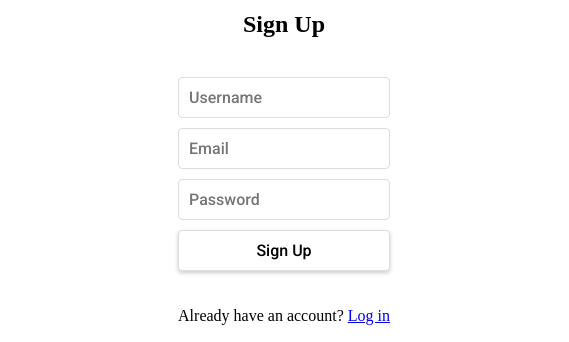
Test case: Register › submits registration and shows success message
This screenshot has width=569, height=342.
In the field with placeholder "Username": (284,98) [178,77,390,118], type "testuser"
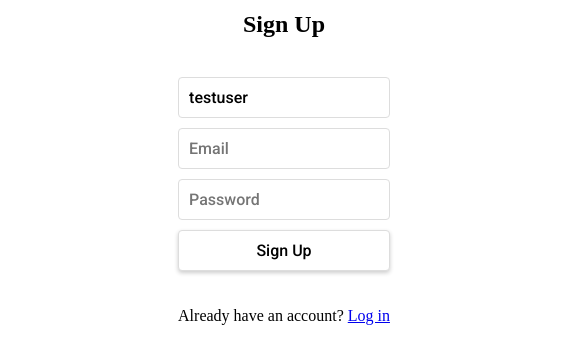
In the field with placeholder "Email": (284,149) [178,128,390,169], type "test@example.com"
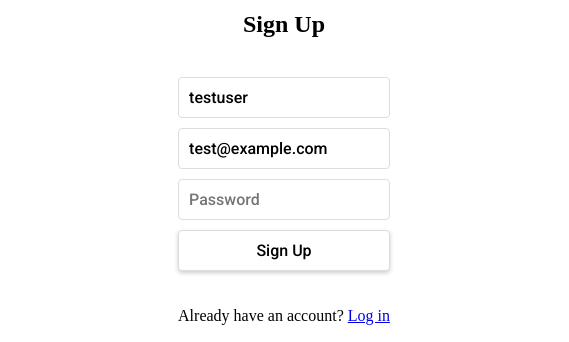
In the password field with placeholder "Password": (284,200) [178,179,390,220], type "password123"
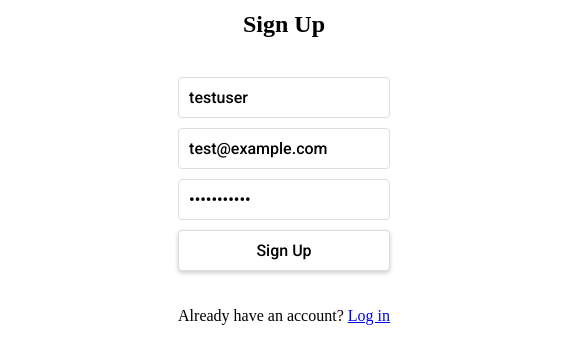
Click the button "Sign Up": (284,251) [178,230,390,271]
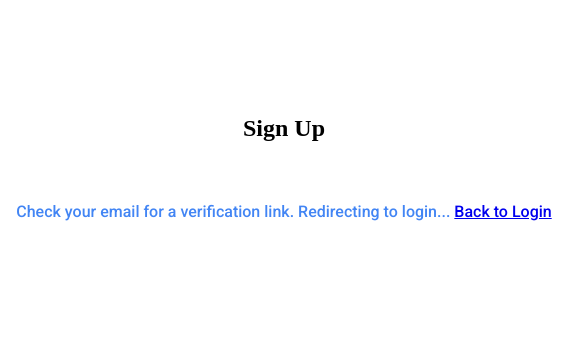
Result: the text "Check your email for a verification link. Redirecting to login..." is shown at [16,202,450,221]
